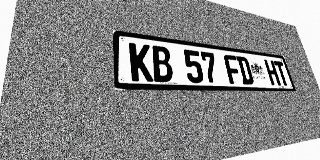5: (183, 49, 205, 83)
7: (199, 51, 220, 84)
B: (150, 45, 174, 82)
D: (236, 56, 255, 85)
F: (223, 54, 243, 84)
H: (264, 59, 281, 85)
K: (129, 42, 153, 82)
T: (273, 61, 290, 86)
